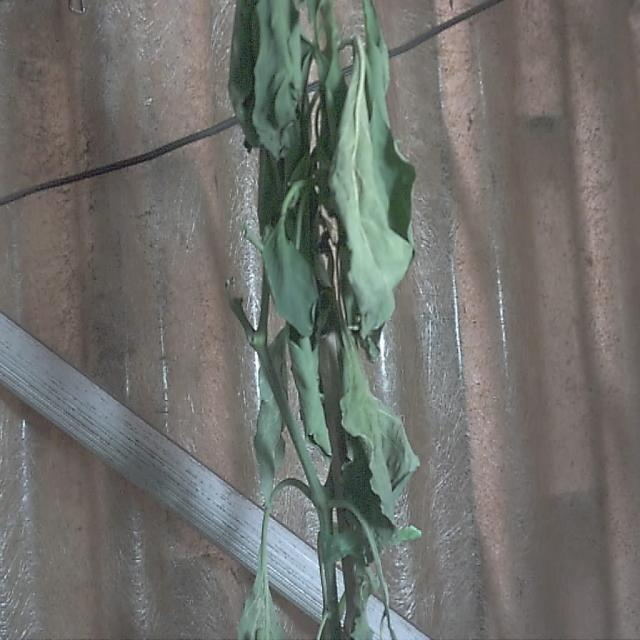Leaf: (329, 50, 415, 339), (229, 2, 298, 157), (264, 226, 319, 336)
